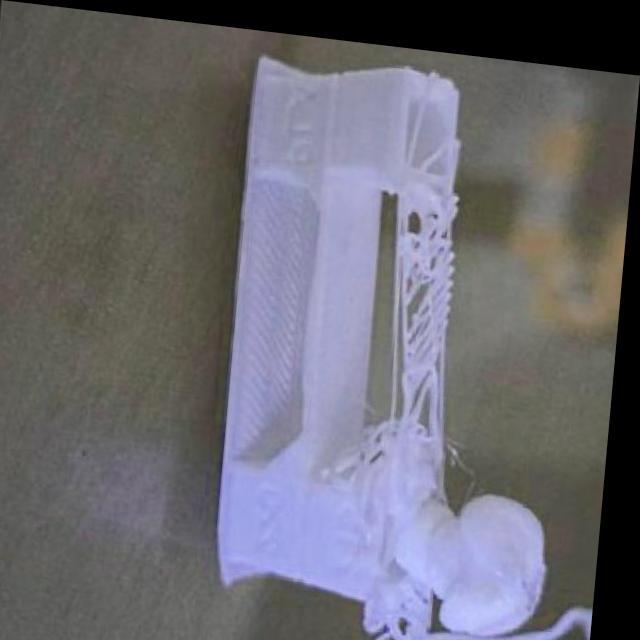spaghetti: (382, 90, 475, 448), (359, 554, 604, 640), (315, 408, 394, 482)
